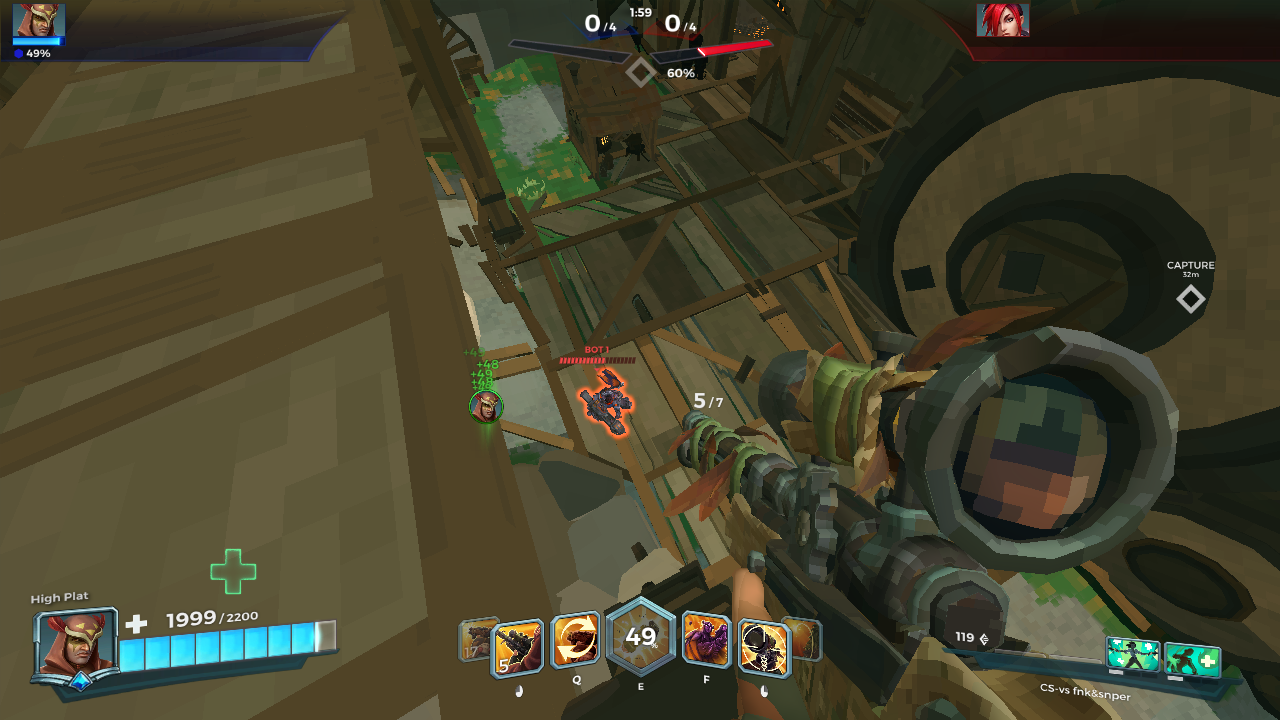model: (566, 372, 645, 446)
